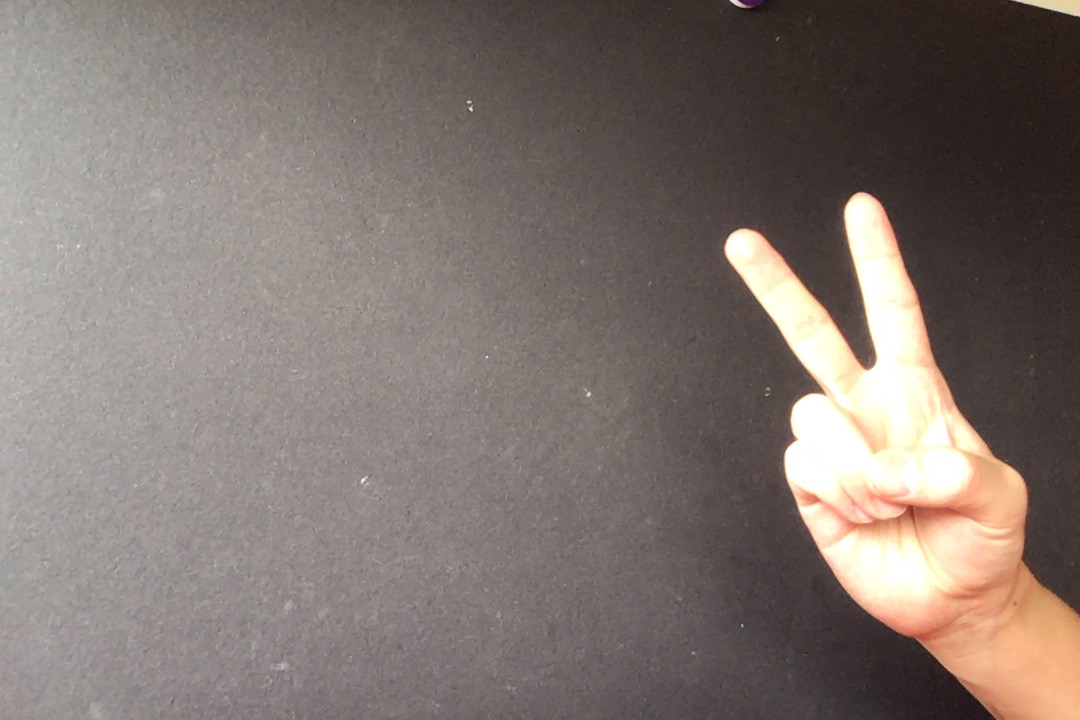peacesign: (715, 187, 1032, 647)
